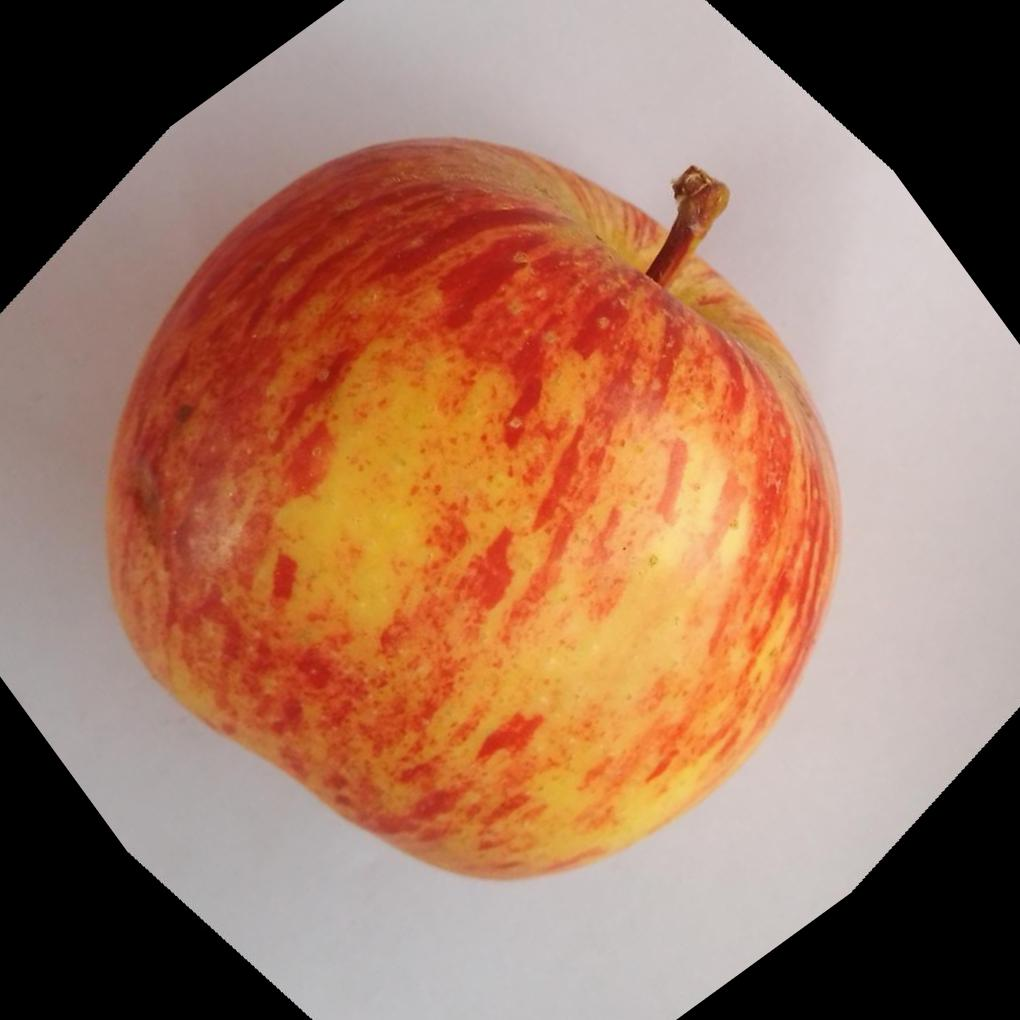FreshGuava: (102, 137, 845, 887)
